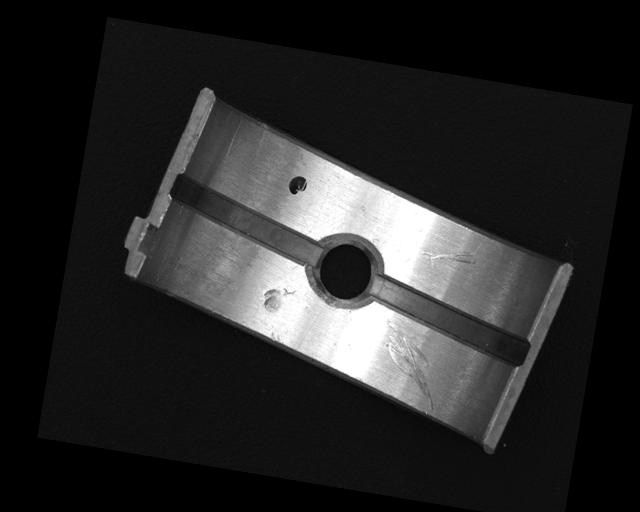blot: (286, 173, 309, 197)
bruise: (261, 285, 296, 316), (268, 330, 286, 344)
gap: (362, 275, 536, 368), (164, 171, 328, 267)
hole: (308, 228, 385, 312)
nick: (370, 315, 445, 410), (419, 245, 477, 269)
